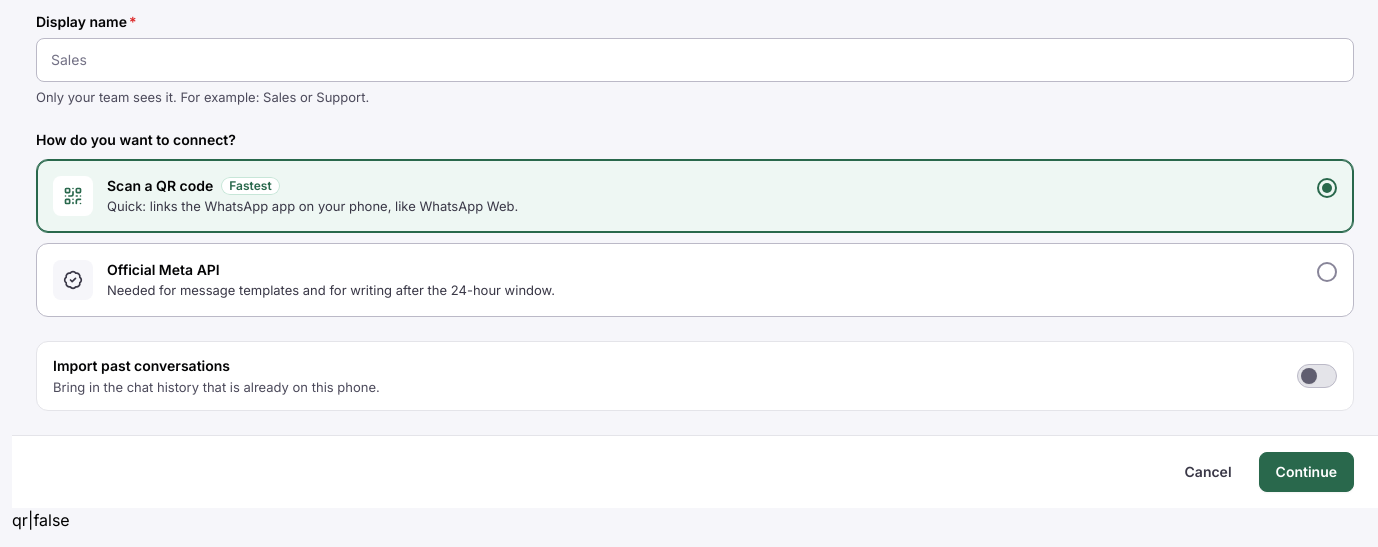
it: ConnectChooser › shows the history sync switch only for the QR code option
This screenshot has width=1378, height=547.
Step 1. Click the switch labelled "Import past conversations" → (142, 366), box left=36, top=341, right=1354, bottom=411
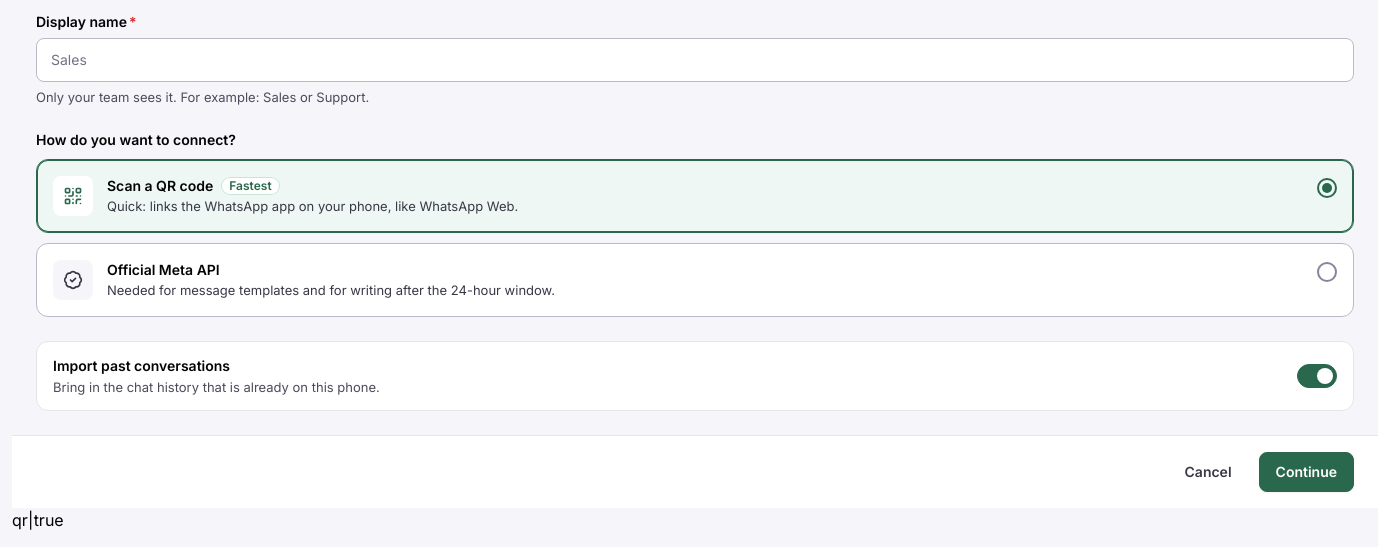
Expected: the text with test id "state" reads "qr|true", left=12, top=510, right=64, bottom=530
Step 2. Click the radio button labelled "Official Meta API" → (695, 280), box left=36, top=243, right=1354, bottom=317
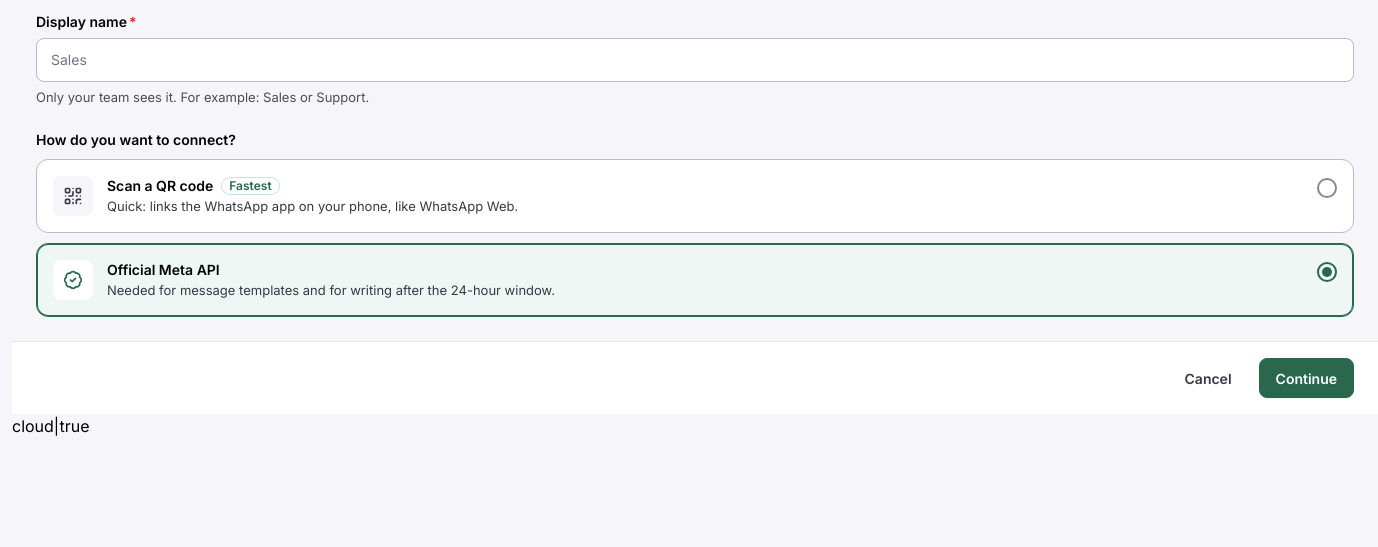
Expected: the text with test id "state" reads "cloud|true", left=12, top=416, right=90, bottom=436
Expected: the switch labelled "Import past conversations" is gone
